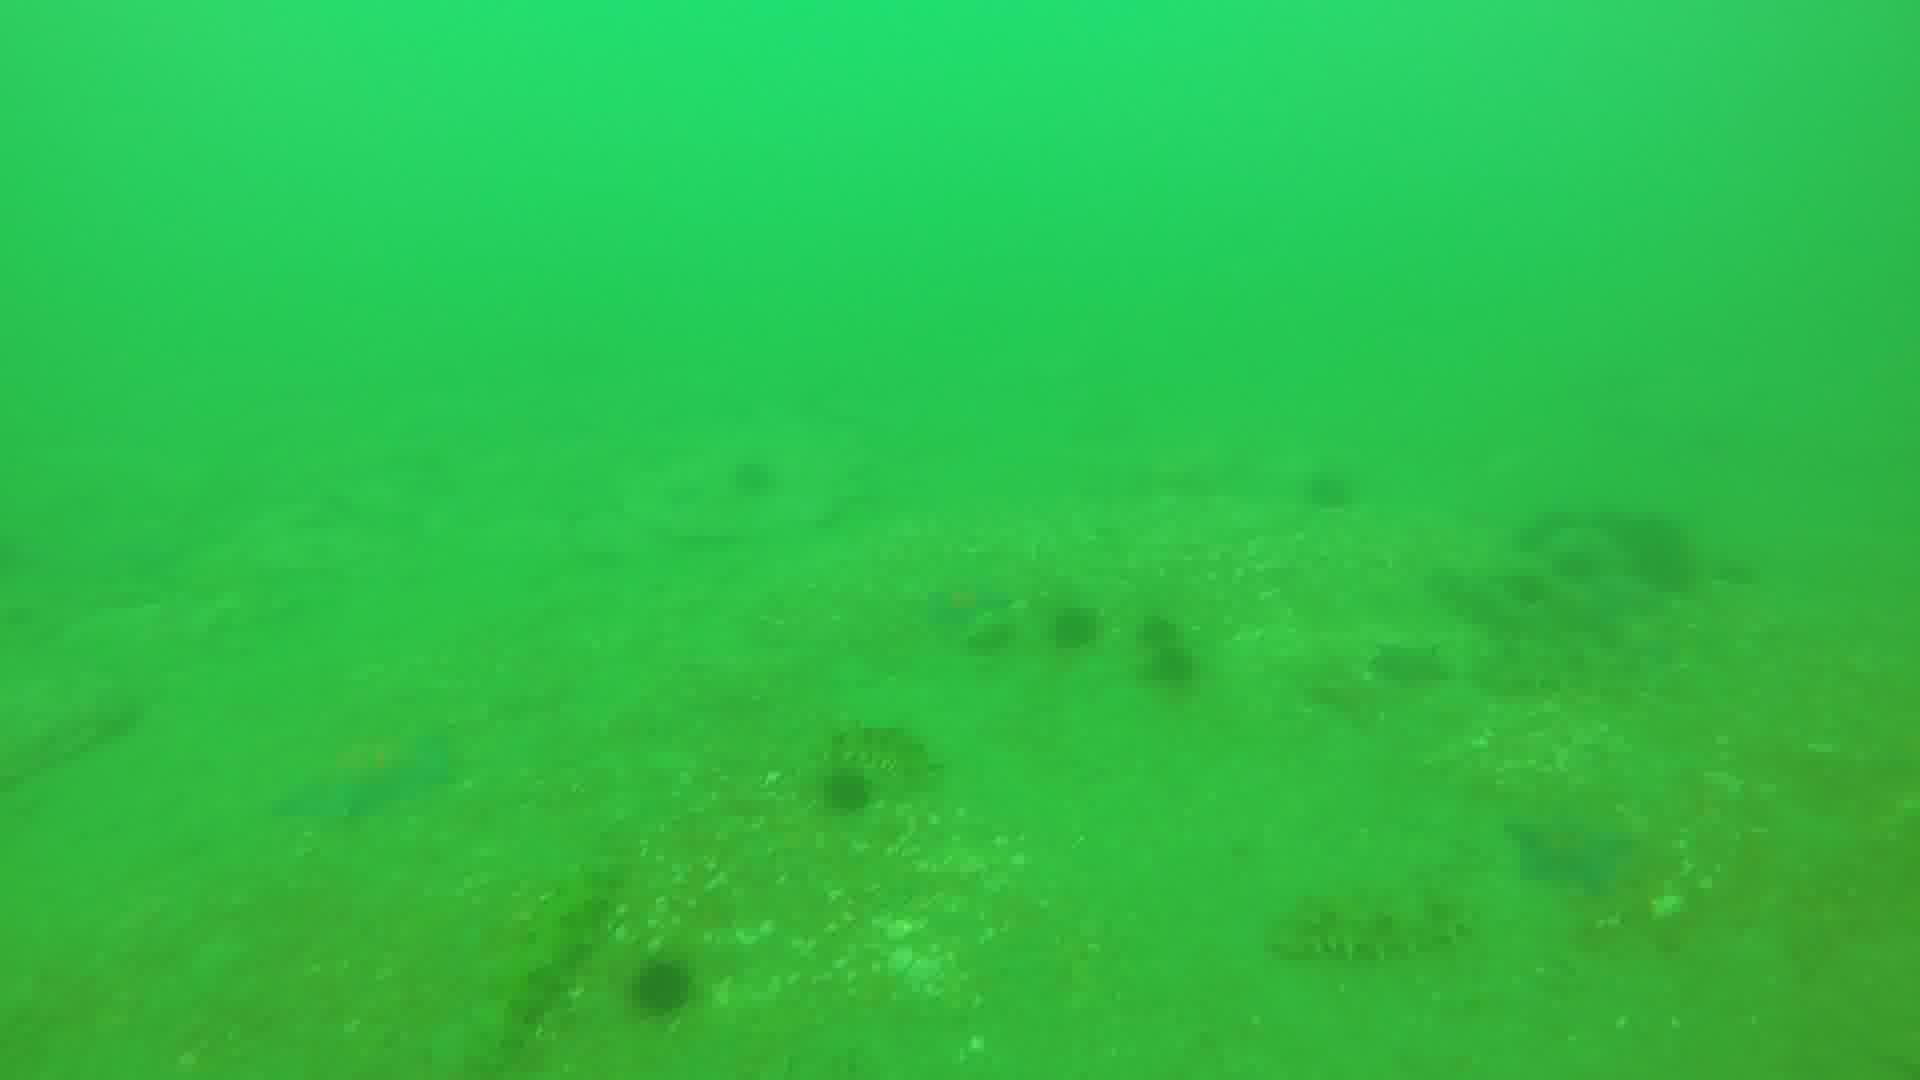echinus: (621, 951, 709, 1009), (1054, 607, 1108, 661), (829, 767, 880, 822), (1147, 650, 1199, 694), (1296, 473, 1354, 512), (1135, 620, 1189, 657), (738, 459, 783, 492)
holothurian: (512, 844, 625, 1025), (1269, 894, 1476, 961), (1298, 644, 1435, 735), (1431, 563, 1557, 640), (1481, 640, 1638, 698), (815, 723, 939, 779)
starfish: (287, 735, 452, 831), (1507, 816, 1655, 894), (928, 578, 1011, 634)
